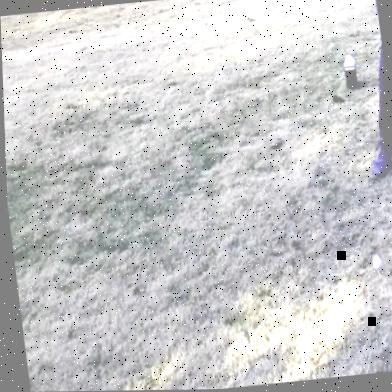ClubHead: (369, 254, 381, 273)
